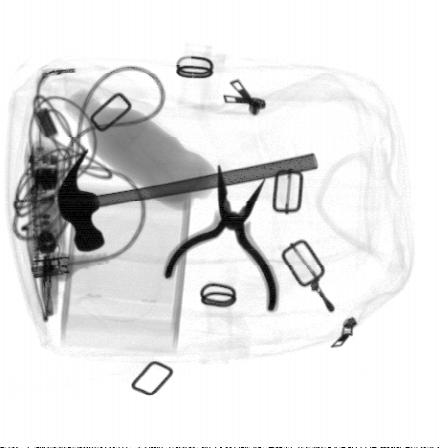Hammer: (56, 149, 319, 251)
Pliers: (163, 166, 281, 313)
